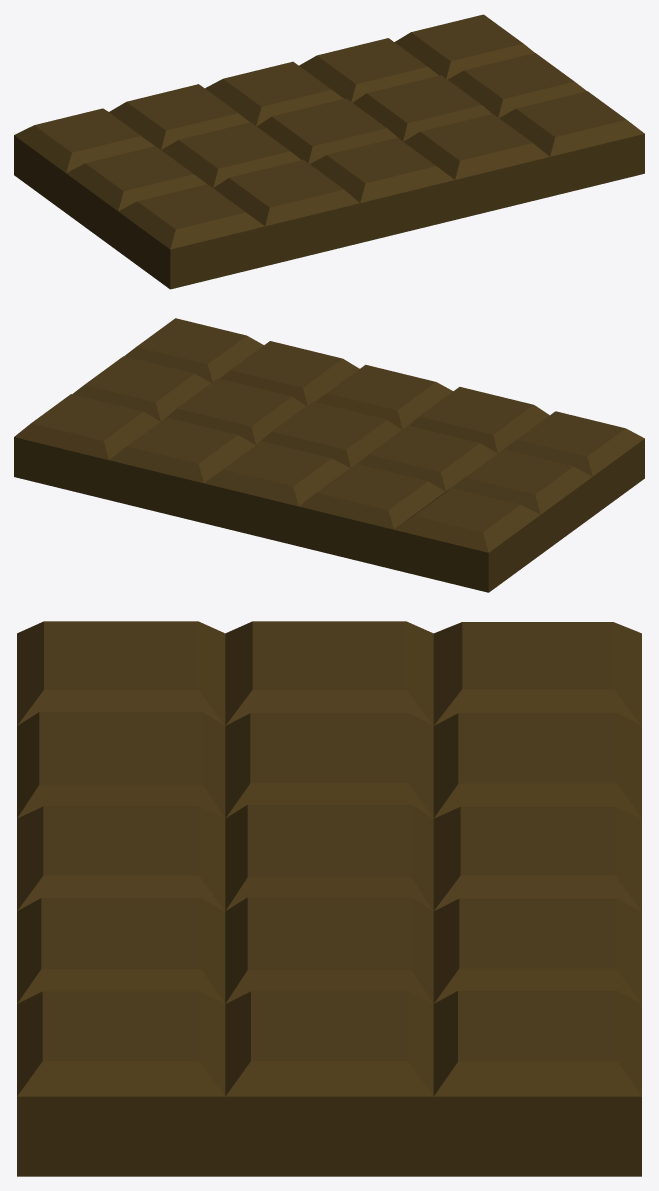
File: Chocolate.fbx
3 views of the same model, one above another, from view 1: azimuth 30°, elevation 25°; view 2: azimuth 150°, elevation 25°; view 3: azimuth 270°, elevation 25° (orthographic). The views are drawn at different scales.
Parts seen in each view (by area): view 1: chocolate; view 2: chocolate; view 3: chocolate.
Boxes of the visible parts, <box> form: chocolate: <box>14,14,644,289</box>; chocolate: <box>14,318,644,592</box>; chocolate: <box>17,621,641,1176</box>.
Bounding box in the file's own units: 236 × 24.69 × 134.
